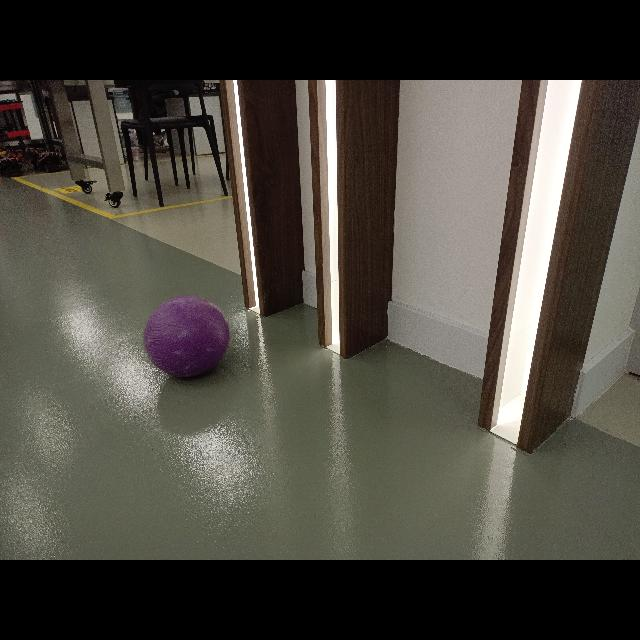P: (145, 296, 235, 386)
